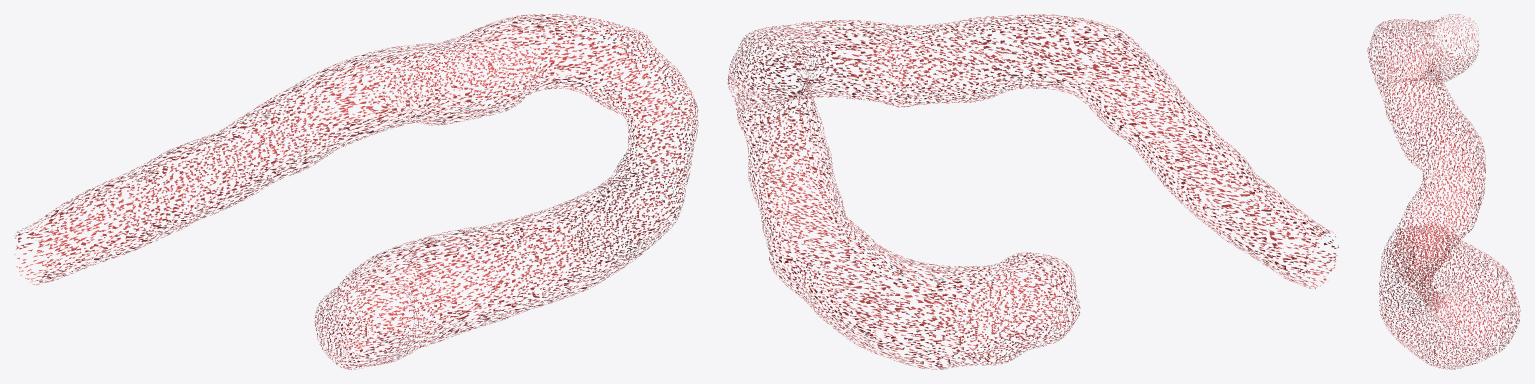
File: aorta.glb
3 views of the same model, side by side, from view 1: azimuth 30°, elevation 25°; view 2: azimuth 150°, elevation 25°; view 3: azimuth 270°, elevation 25° (orthographic). The views are drawn at different scales.
Size of the model in its own units: 247 by 125 by 64.63.
